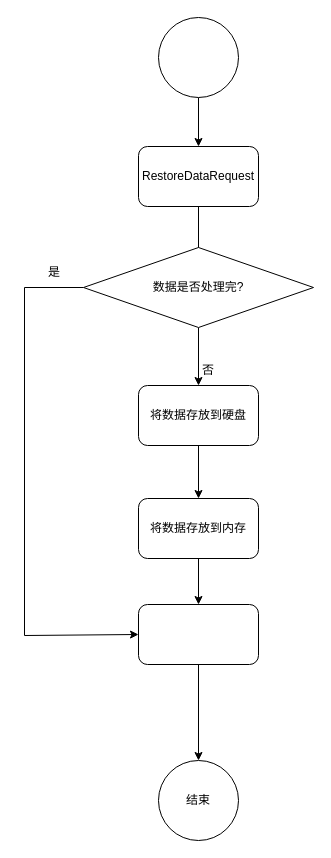
The diagram is 331 pixels wide and 858 high, and some of its shapes have lost their labels. Here are the shapes that lost their labels. From the top down, the box of each, then its label:
(158, 16, 238, 98): 开始
(138, 604, 258, 664): RestoreDataResponse
